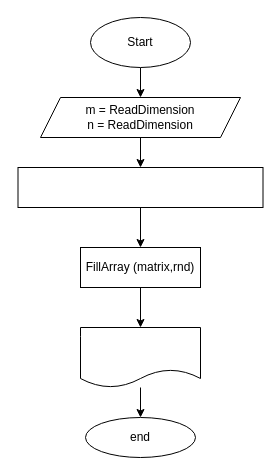
Some shapes in this 280 by 475 pixel diagram are drawn without their labels. Here are the shapes that lost their labels. From the top down, the centre of each, then its label:
At pixel 140 187: "double [,] matrix = new double [m,n] rnd = new Random ()".
At pixel 140 357: "GoodPrint(matrix)".
